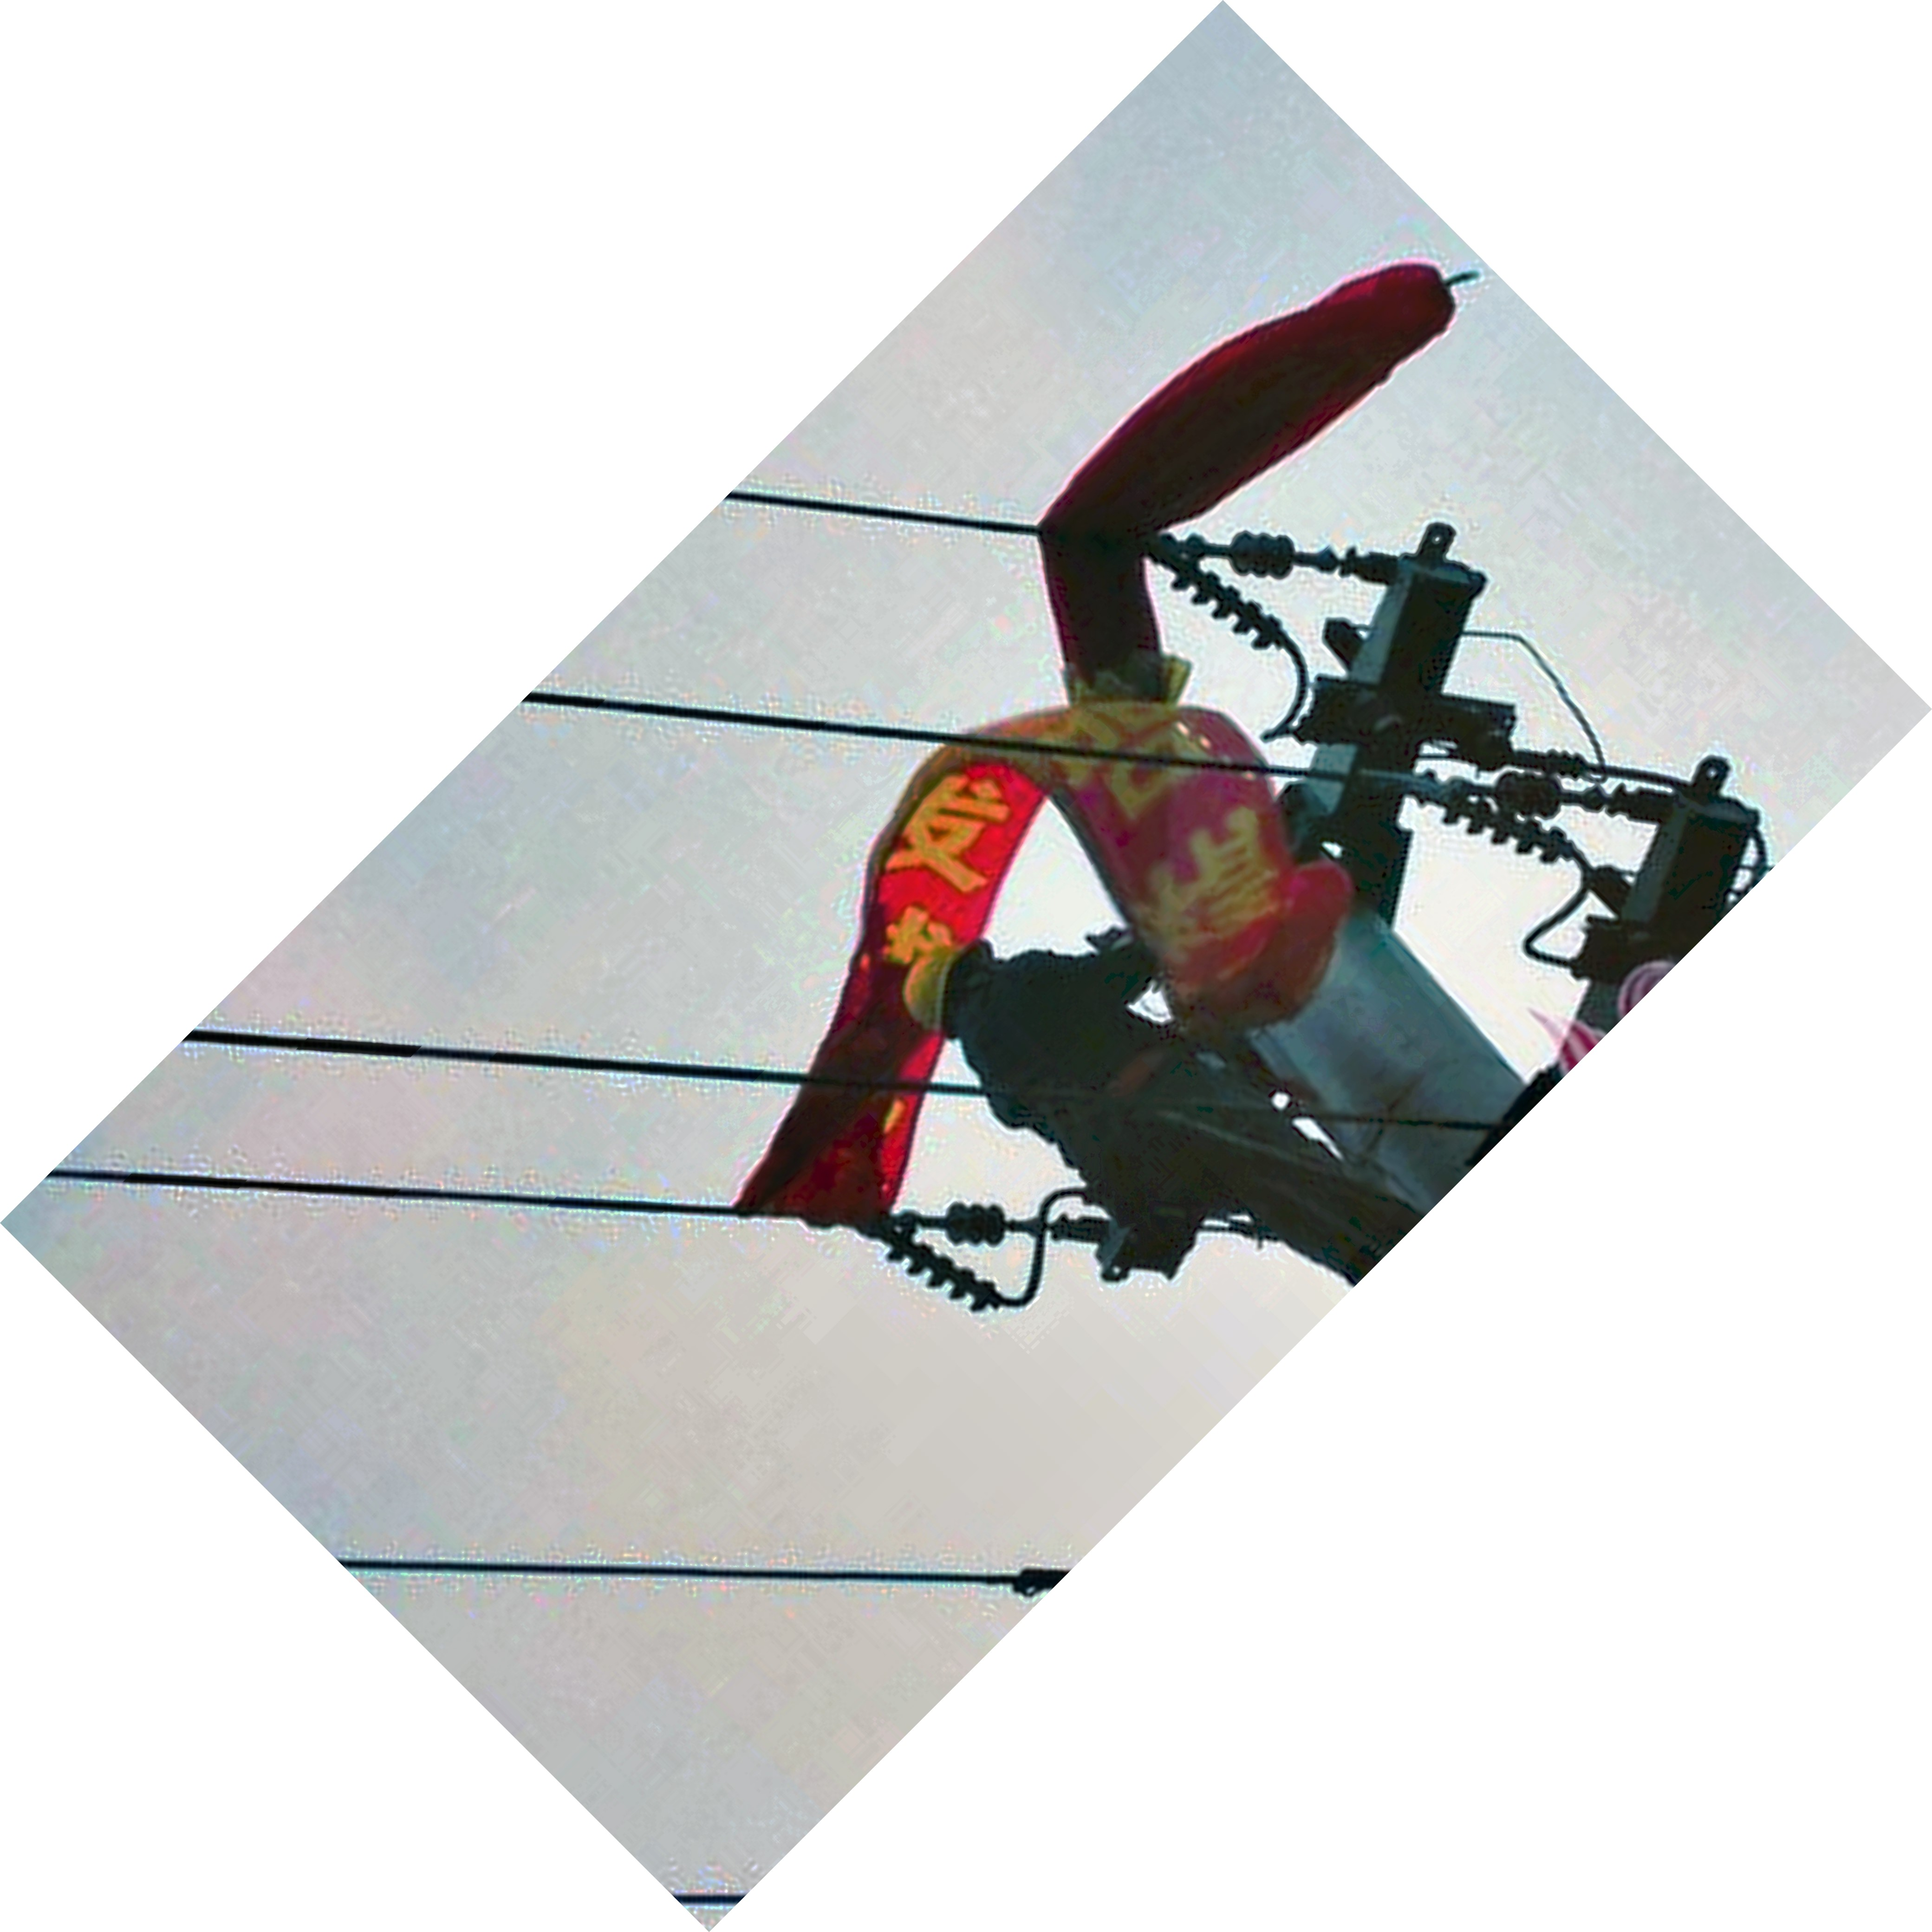wire foreign body: (745, 246, 1447, 1231)
